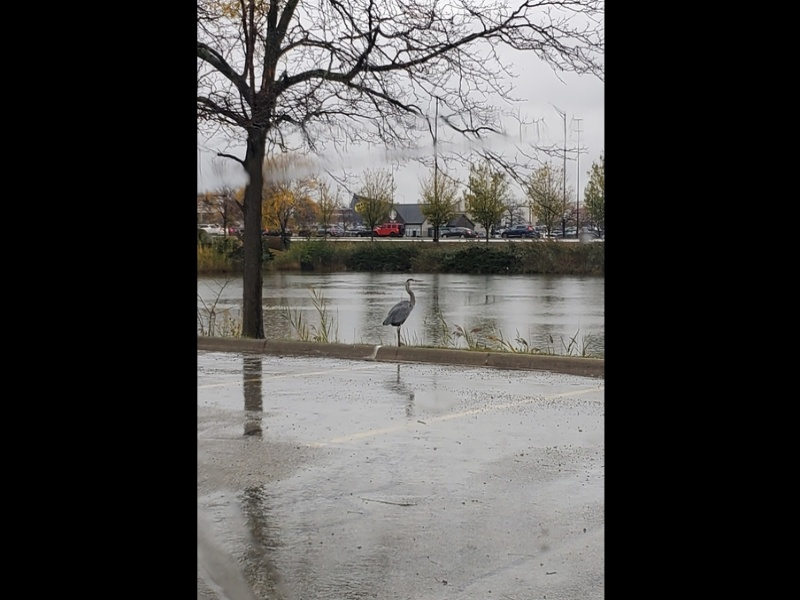heron: (382, 273, 422, 350)
